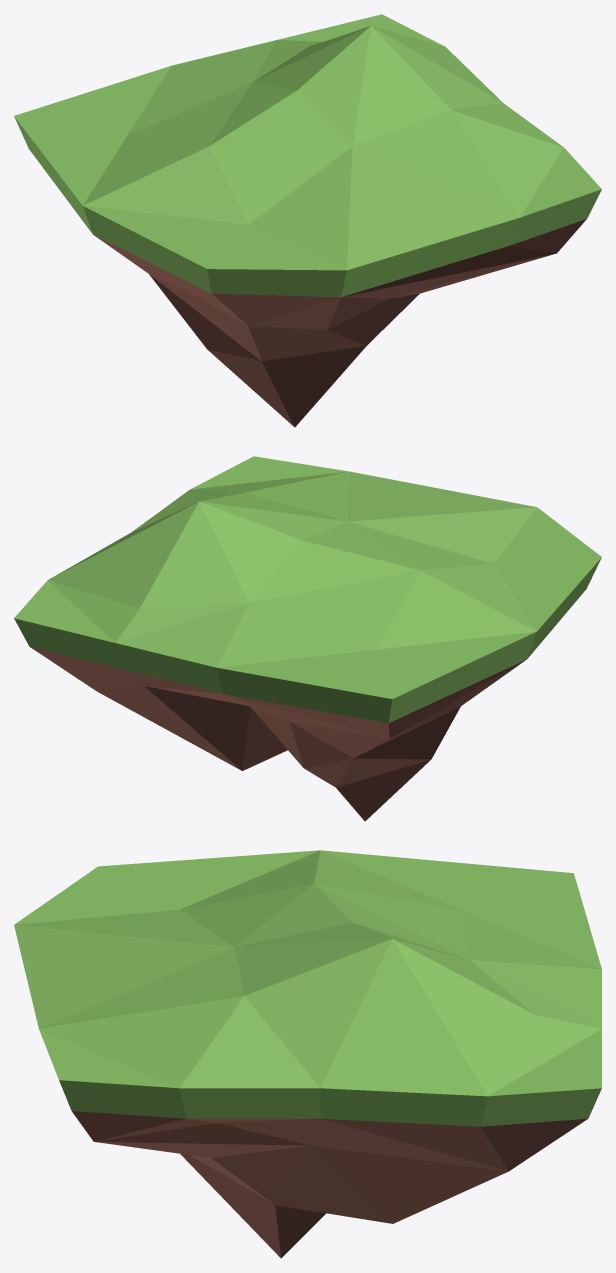
The model's file is Island12.fbx.
3 renders of one model, top to bottom at view 1: azimuth 30°, elevation 25°; view 2: azimuth 150°, elevation 25°; view 3: azimuth 270°, elevation 25°, orthographic. The views are drawn at different scales.
Visible parts, largest first — view 1: Island12; view 2: Island12; view 3: Island12.
Part boxes in pixels (x1,y1,x2,y2): Island12: [14, 14, 601, 427]; Island12: [14, 456, 601, 821]; Island12: [14, 850, 601, 1258].
Size of the model in its own units: 2.07 by 1.53 by 2.09.
